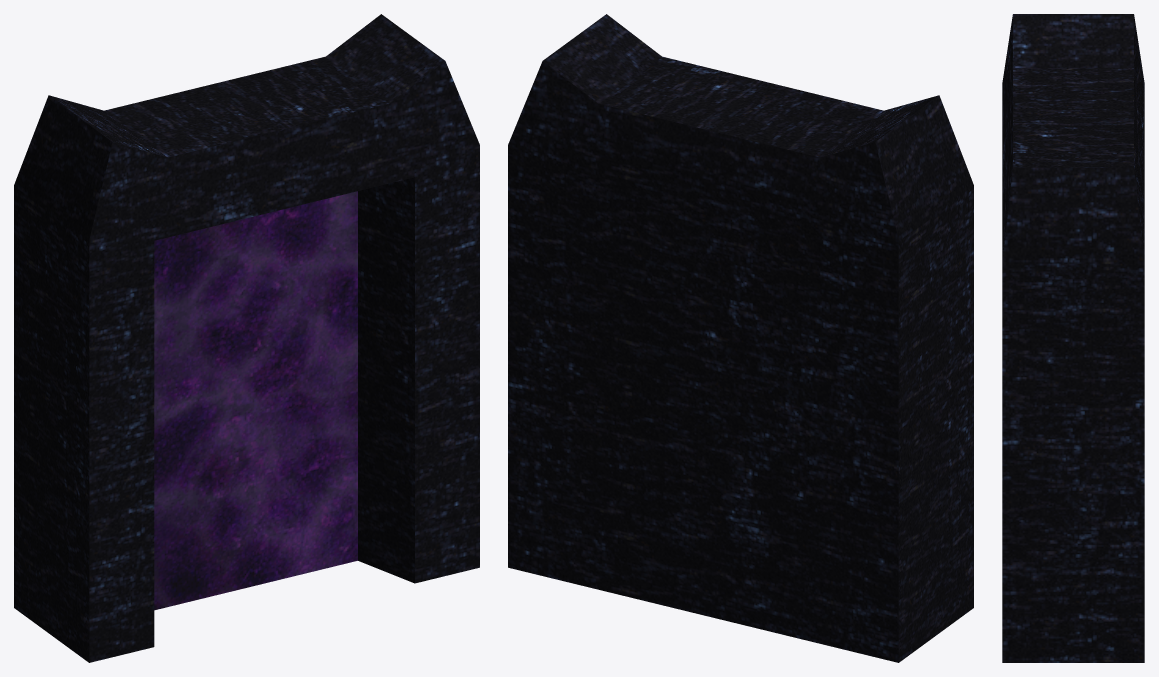
File: Portal.fbx
3 views of the same model, side by side, from view 1: azimuth 30°, elevation 25°; view 2: azimuth 150°, elevation 25°; view 3: azimuth 270°, elevation 25° (orthographic). The views are drawn at different scales.
Parts seen in each view (by area): view 1: PortalFrame; view 2: PortalFrame; view 3: PortalFrame.
Part boxes in pixels (box(x1,y1,x2,y2)): PortalFrame: box(14, 14, 479, 662); PortalFrame: box(508, 14, 973, 662); PortalFrame: box(1002, 14, 1144, 662).
Size of the model in its own units: 3.52 by 4.39 by 1.17.
Materials: 2 (2 with a texture image).
